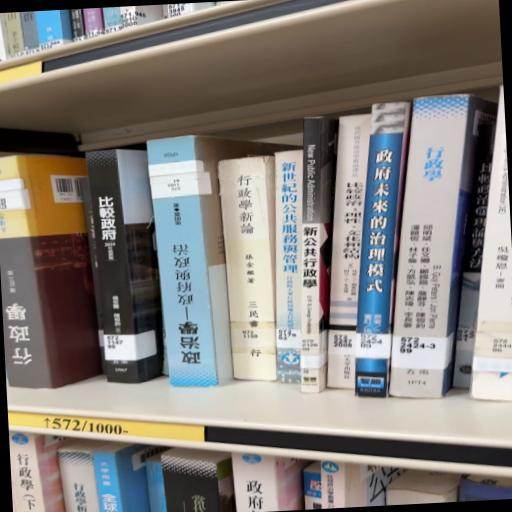reverse: (148, 136, 288, 388)
